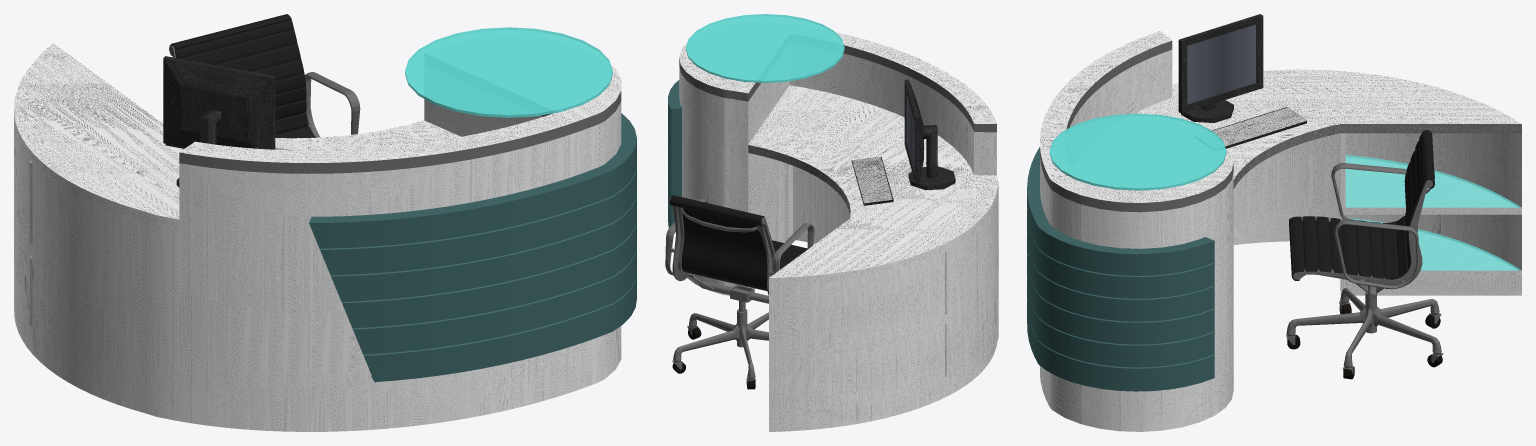
3 views of the same model, side by side, from view 1: azimuth 30°, elevation 25°; view 2: azimuth 150°, elevation 25°; view 3: azimuth 270°, elevation 25° (orthographic). The views are drawn at different scales.
Visible parts, largest first — view 1: group_0 (×4), group_3, group_2, Monitor_Half (×2), HSeat_1, HBase; view 2: group_0 (×5), group_2, HSeat_1, HBase (×8), Monitor_Half (×2), group_3, Keyboard; view 3: group_0 (×7), group_3, group_2, HSeat_1, Monitor_Half (×4), HBase (×5), Keyboard.
Part boxes in pixels (<box>): group_0 (×4): <box>14,43,621,431</box>; group_3: <box>309,113,636,382</box>; group_2: <box>405,27,612,117</box>; Monitor_Half (×2): <box>163,56,275,187</box>; HSeat_1: <box>169,14,315,138</box>; HBase: <box>305,72,360,137</box>; group_0 (×5): <box>679,32,998,431</box>; group_2: <box>686,14,844,82</box>; HSeat_1: <box>669,195,807,291</box>; HBase (×8): <box>665,197,814,379</box>; Monitor_Half (×2): <box>904,79,955,190</box>; group_3: <box>668,80,681,227</box>; Keyboard: <box>852,157,892,203</box>; group_0 (×7): <box>1040,31,1521,431</box>; group_3: <box>1027,147,1214,391</box>; group_2: <box>1049,113,1226,190</box>; HSeat_1: <box>1289,130,1434,280</box>; Monitor_Half (×4): <box>1178,14,1263,122</box>; HBase (×5): <box>1286,163,1441,368</box>; Keyboard: <box>1212,107,1305,146</box>.
Size of the model in its own units: 72.3 by 77.11 by 45.34.
